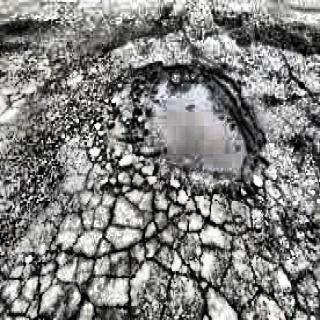alligator-crack: (1, 241, 320, 320), (54, 185, 320, 244)
crack: (280, 52, 313, 98)
pothole: (134, 60, 268, 191)
